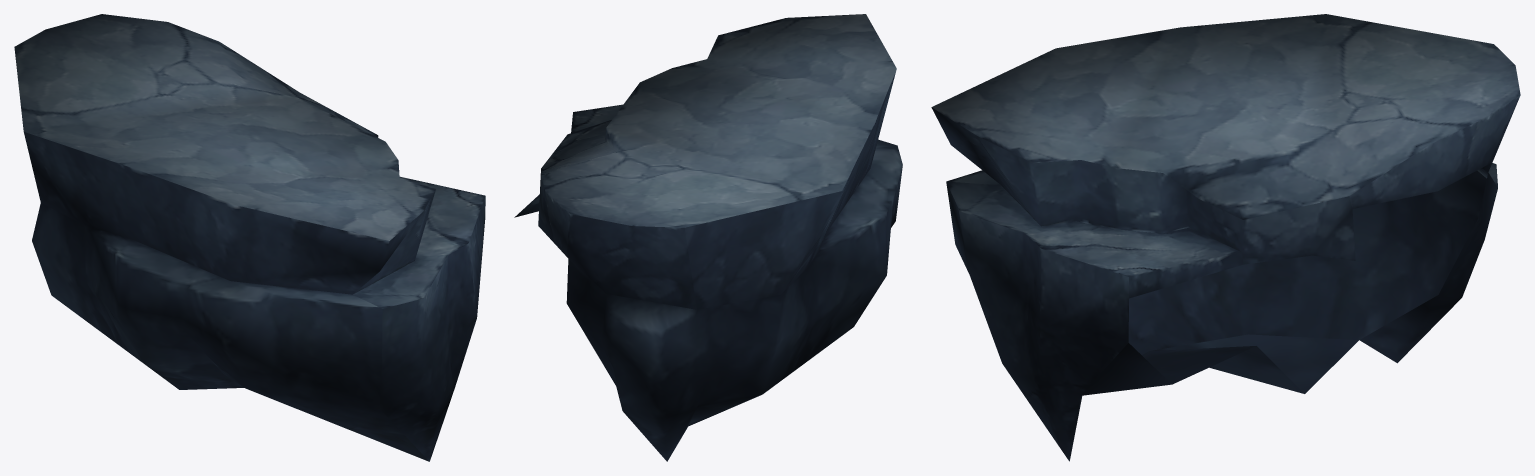
Rendered from Area_02_13.fbx.
3 renders of one model, left to right at view 1: azimuth 30°, elevation 25°; view 2: azimuth 150°, elevation 25°; view 3: azimuth 270°, elevation 25°, orthographic.
Visible parts, largest first — view 1: Area_02_13; view 2: Area_02_13; view 3: Area_02_13.
Part boxes in pixels (<box>): Area_02_13: <box>14,14,485,461</box>; Area_02_13: <box>514,14,902,461</box>; Area_02_13: <box>931,14,1520,461</box>.
Bounding box in the file's own units: 802 × 656 × 1108.
